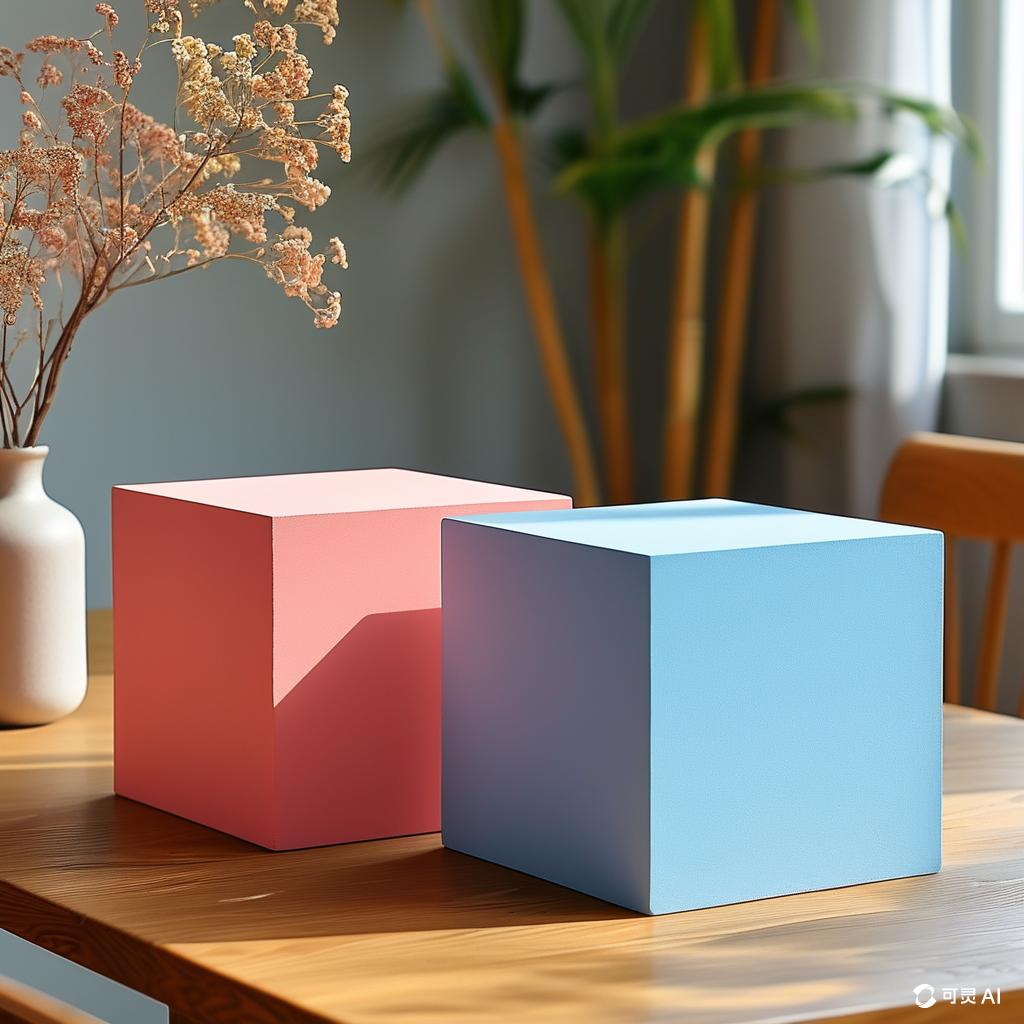cube: (439, 495, 945, 916), (109, 465, 573, 852)
